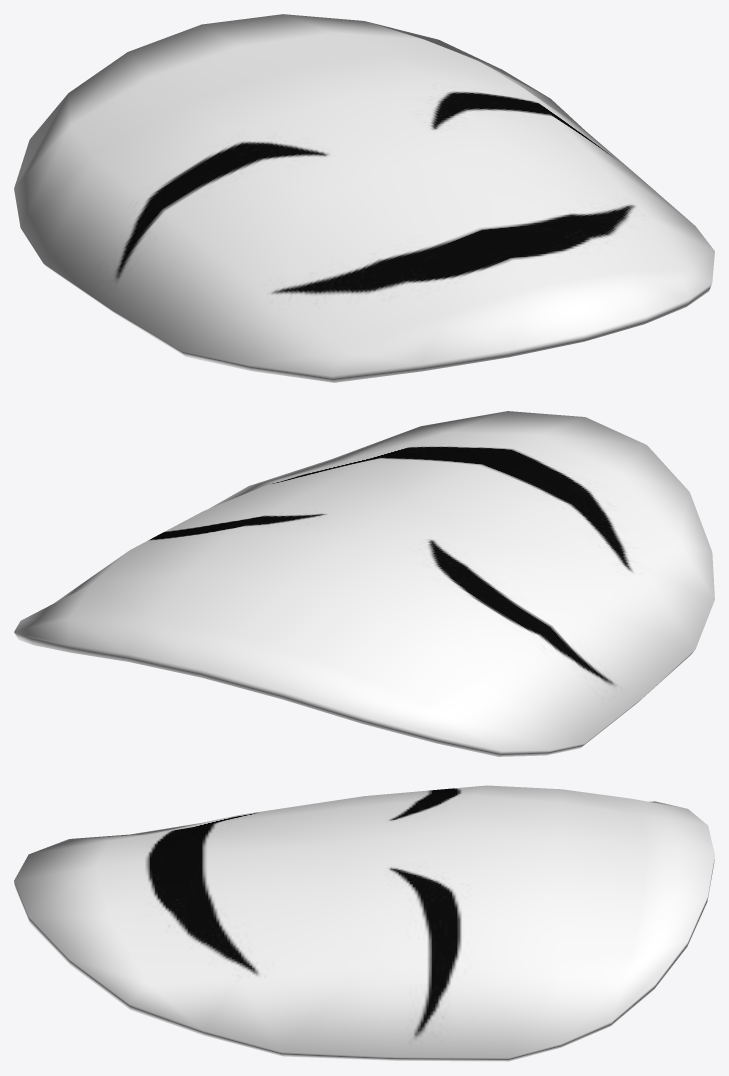
The model's file is Smile_1.fbx.
3 renders of one model, top to bottom at view 1: azimuth 30°, elevation 25°; view 2: azimuth 150°, elevation 25°; view 3: azimuth 270°, elevation 25°, orthographic. The views are drawn at different scales.
Parts seen in each view (by area): view 1: Smile_1; view 2: Smile_1; view 3: Smile_1.
Boxes of the visible parts, x1,y1,x2,y2 form: Smile_1: [14, 14, 714, 382]; Smile_1: [14, 411, 714, 756]; Smile_1: [14, 785, 714, 1061].
Size of the model in its own units: 202 by 43.99 by 248.
1 material, 1 textured.
